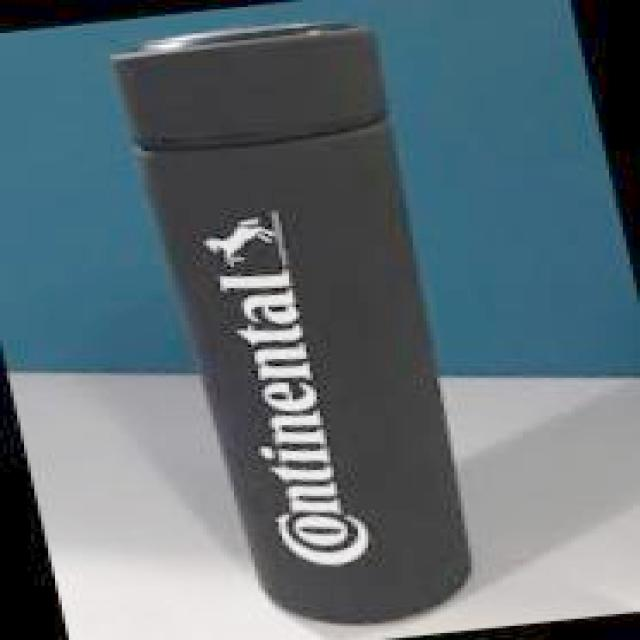bottle: (97, 2, 520, 640)
